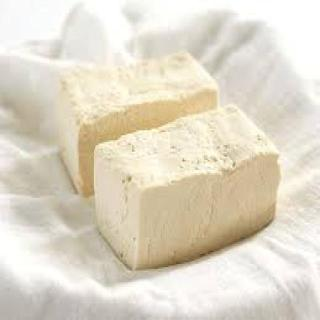Tahu: (38, 43, 286, 275)
